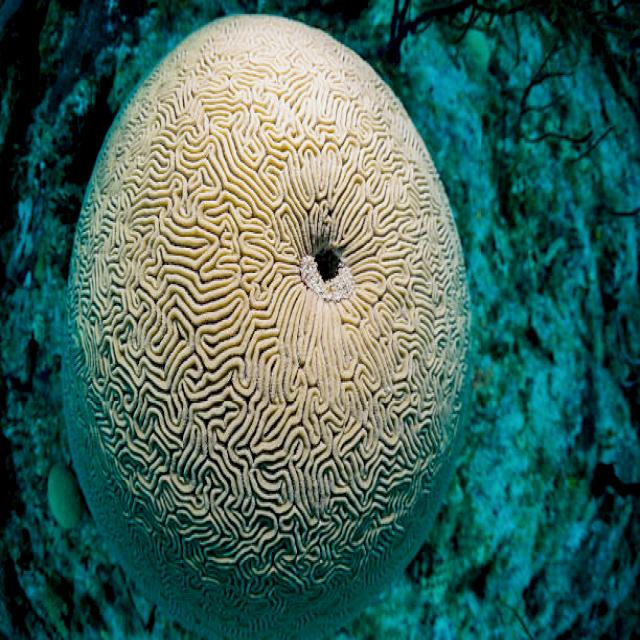Coral: (61, 12, 472, 640)
